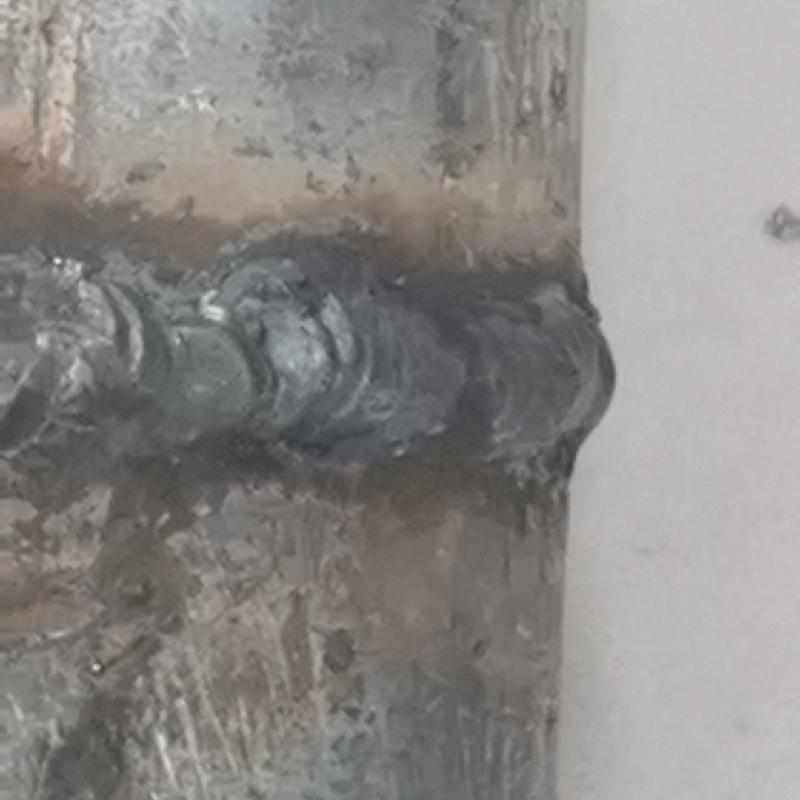good: (3, 232, 621, 471)
